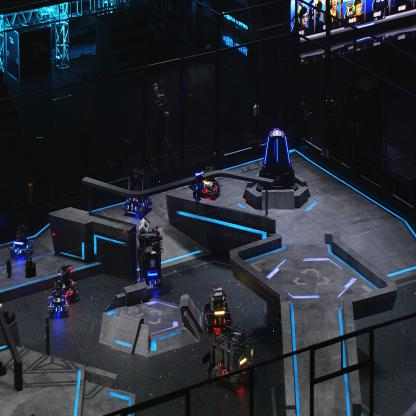car: (209, 320, 254, 391), (134, 226, 164, 294), (122, 167, 153, 217), (203, 282, 233, 331), (51, 262, 80, 302), (46, 279, 68, 317), (11, 224, 35, 258), (197, 164, 220, 199)
